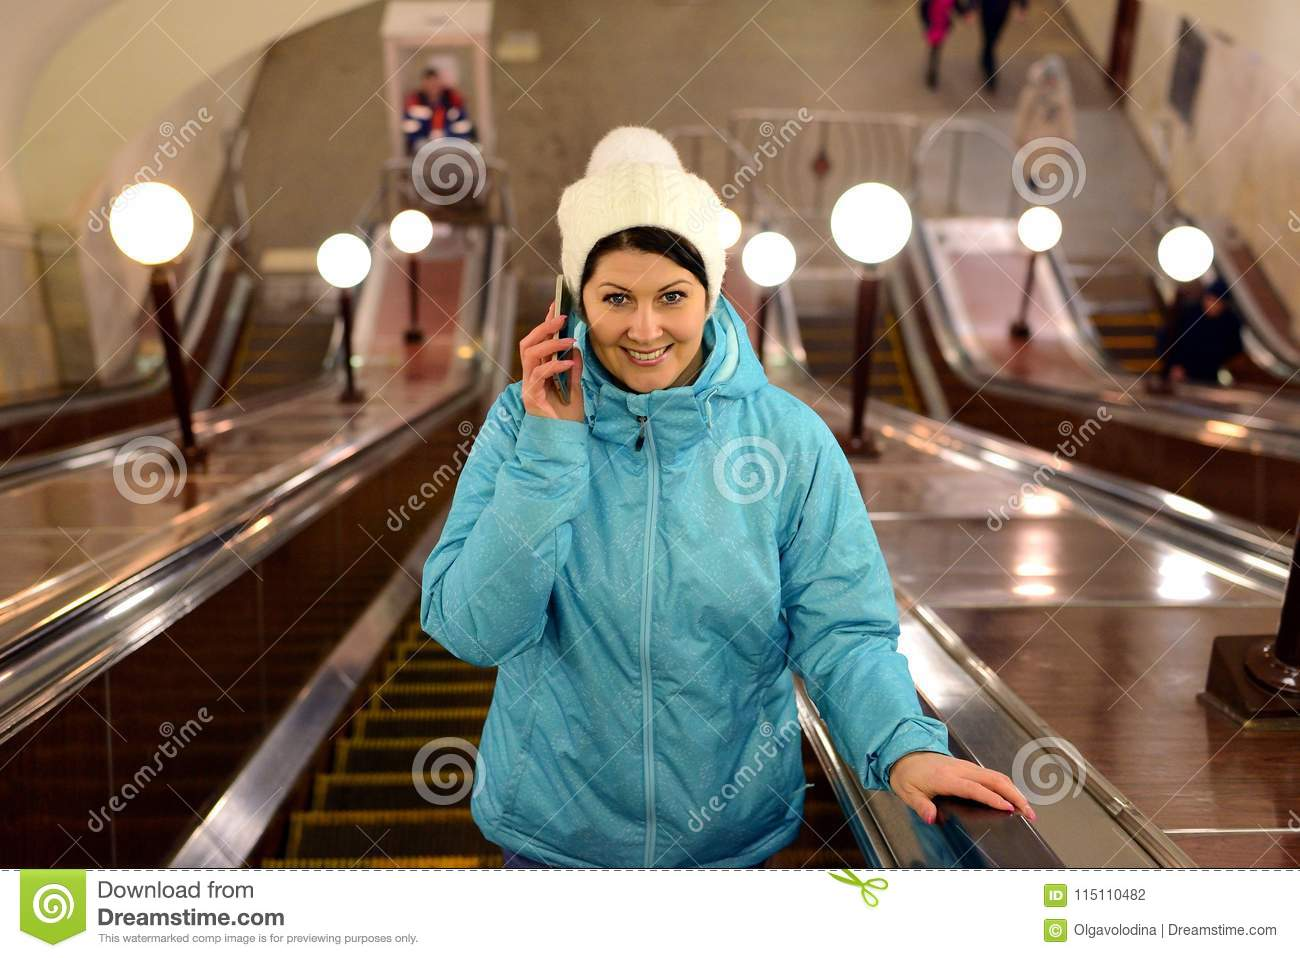phone: (551, 276, 578, 411)
talk: (517, 268, 697, 437)
